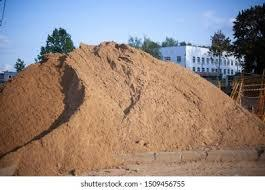sand: (203, 90, 221, 134), (80, 118, 98, 134), (162, 112, 180, 128), (96, 79, 113, 94)
